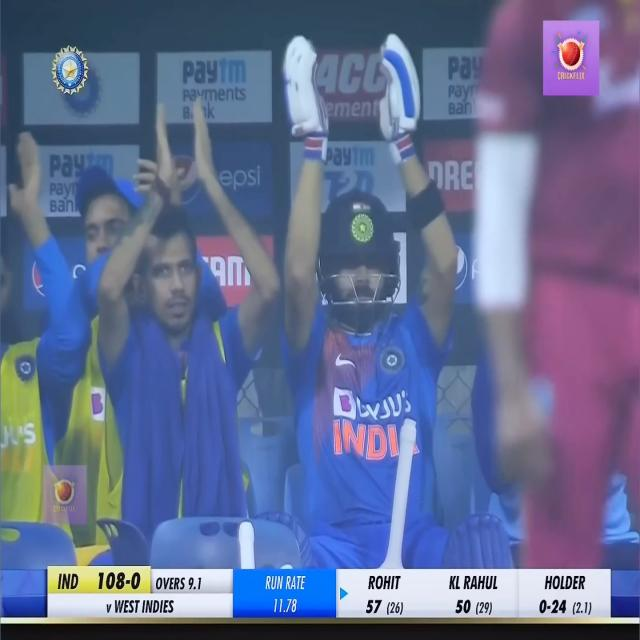fully_visible: (178, 48, 252, 90)
partially_visible: (48, 153, 118, 186), (443, 54, 497, 81), (326, 146, 376, 172)
